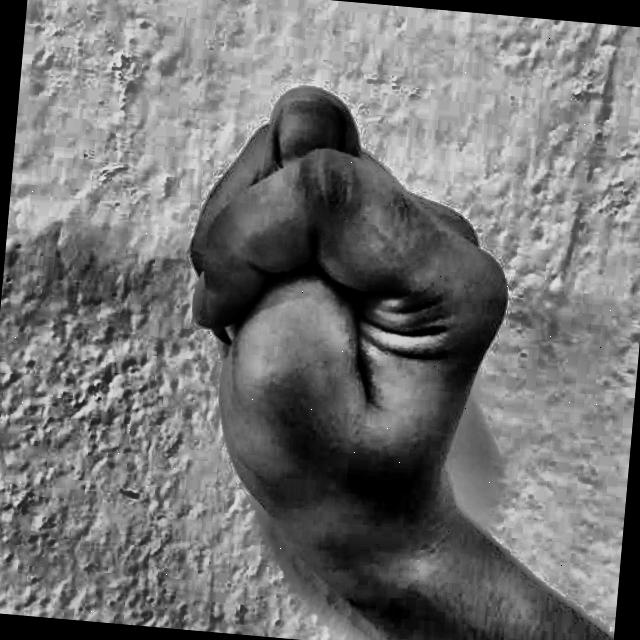Ta: (119, 39, 574, 640)
